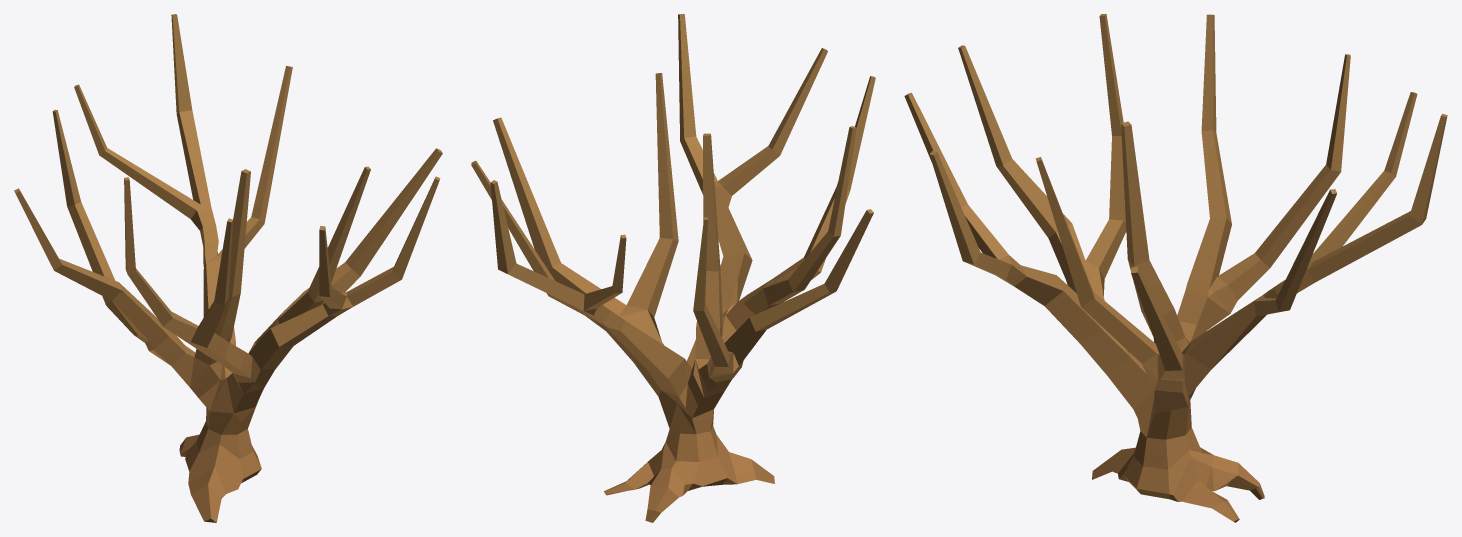
The model's file is LP_Tree_04_NL.fbx.
3 views of the same model, side by side, from view 1: azimuth 30°, elevation 25°; view 2: azimuth 150°, elevation 25°; view 3: azimuth 270°, elevation 25° (orthographic). The views are drawn at different scales.
Visible parts, largest first — view 1: LP_Tree_04_NL_LOD0; view 2: LP_Tree_04_NL_LOD0; view 3: LP_Tree_04_NL_LOD0.
Boxes of the visible parts, box(x1,y1,x2,y2) form: LP_Tree_04_NL_LOD0: box(14, 14, 442, 522); LP_Tree_04_NL_LOD0: box(471, 14, 875, 522); LP_Tree_04_NL_LOD0: box(904, 14, 1447, 522).
Size of what is drawn, in the model's own units: 6.08 by 5.45 by 6.28.
